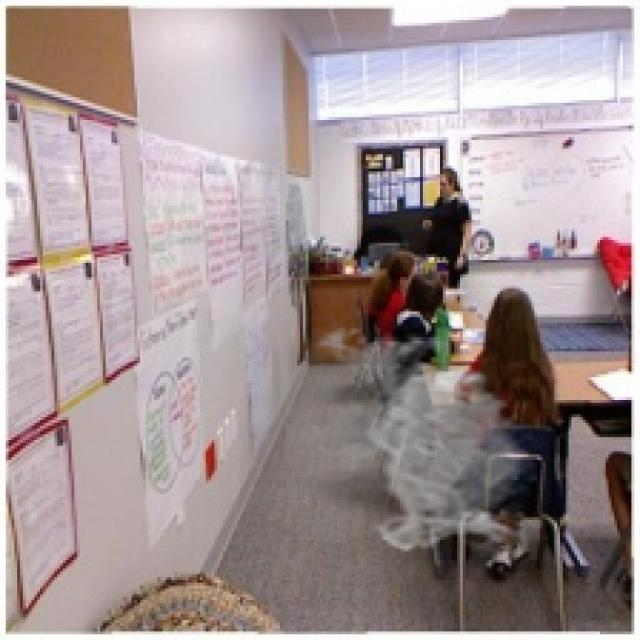smoke: (286, 320, 537, 557)
